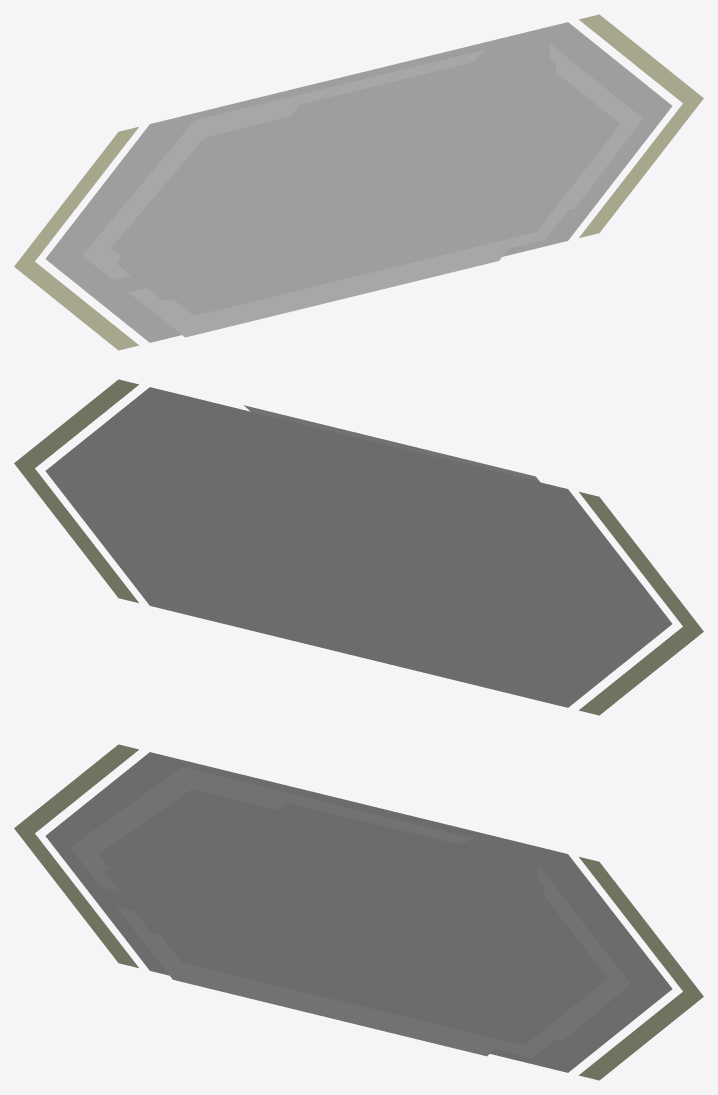
File: UIAnimation.fbx
3 renders of one model, top to bottom at view 1: azimuth 30°, elevation 25°; view 2: azimuth 150°, elevation 25°; view 3: azimuth 330°, elevation 25°, orthographic.
Parts seen in each view (by area): view 1: Plane, Plane.001; view 2: Plane, Plane.001; view 3: Plane, Plane.001.
Part boxes in pixels (x1,y1,x2,y2): Plane: (14,14,703,350); Plane.001: (83,44,642,337); Plane: (14,379,703,715); Plane.001: (243,405,539,481); Plane: (14,744,703,1080); Plane.001: (70,767,630,1057).
Bounding box in the file's own units: 40.36 × 12.23 × 0.6222.
